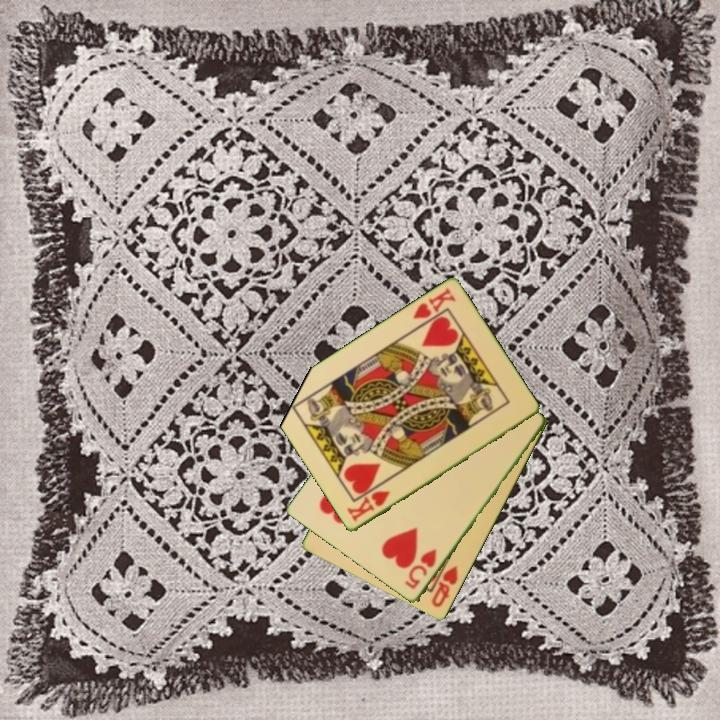5h: (401, 546, 440, 593)
Kh: (343, 487, 393, 525), (409, 284, 459, 322)
Qh: (428, 562, 461, 610)
